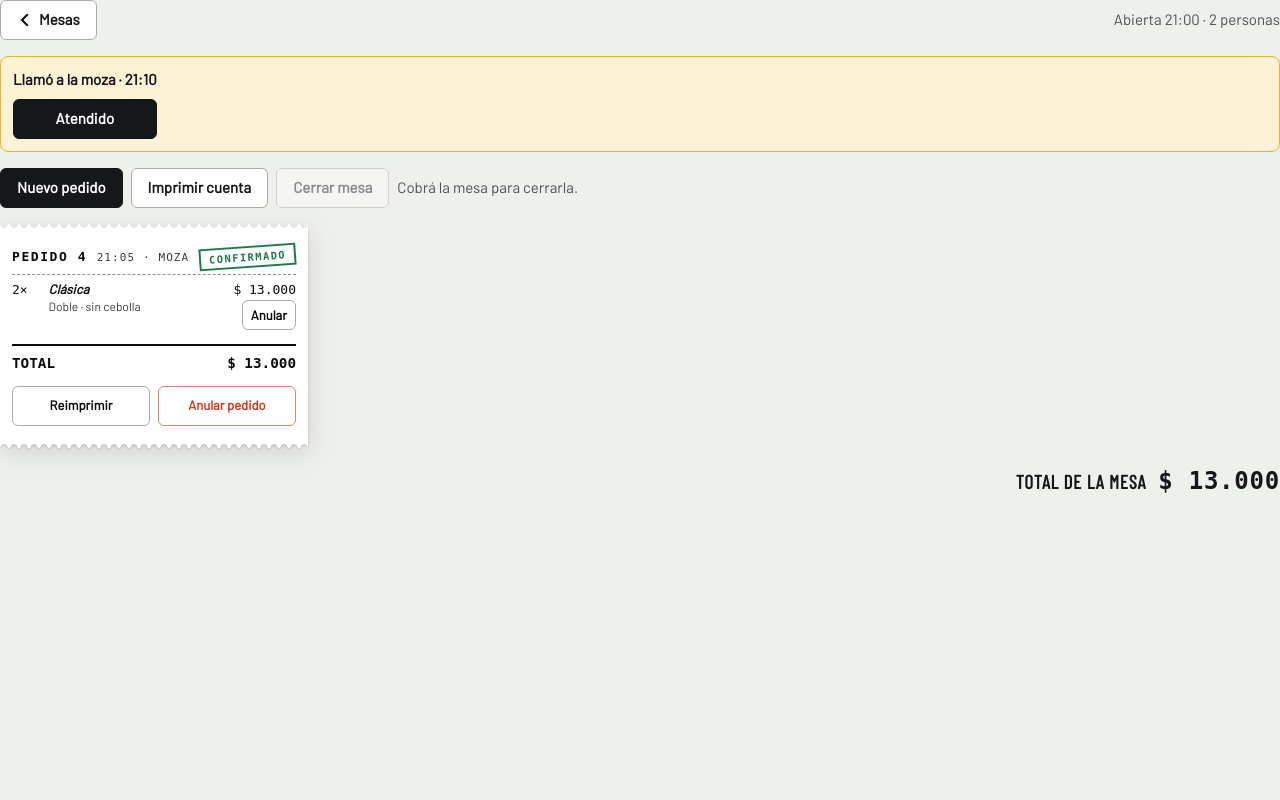
"Nuevo pedido" toma el pedido y lo crea en la mesa
The width and height of the screenshot is (1280, 800).
Click the button "Nuevo pedido": (61, 188) x1=0 y1=168 x2=123 y2=208
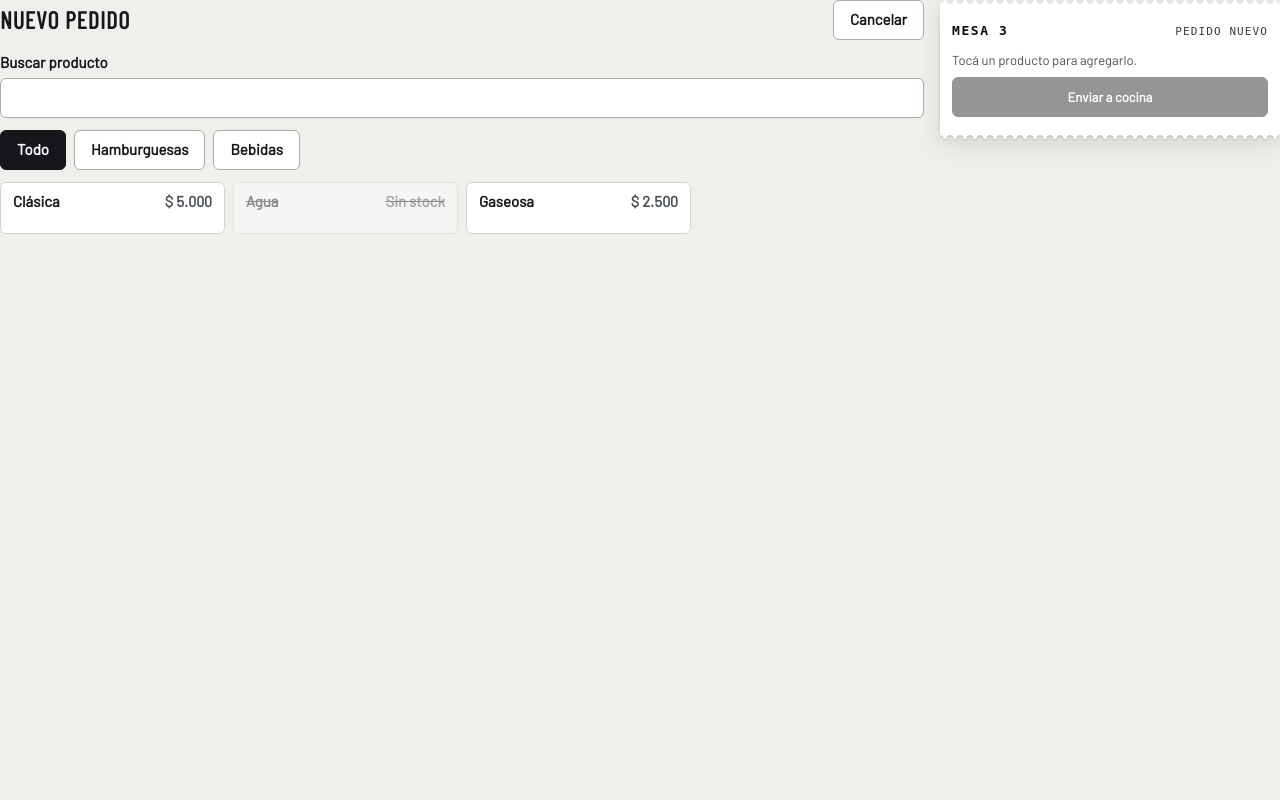
Click the button "Gaseosa $ 2.500": (578, 208) x1=466 y1=182 x2=691 y2=234
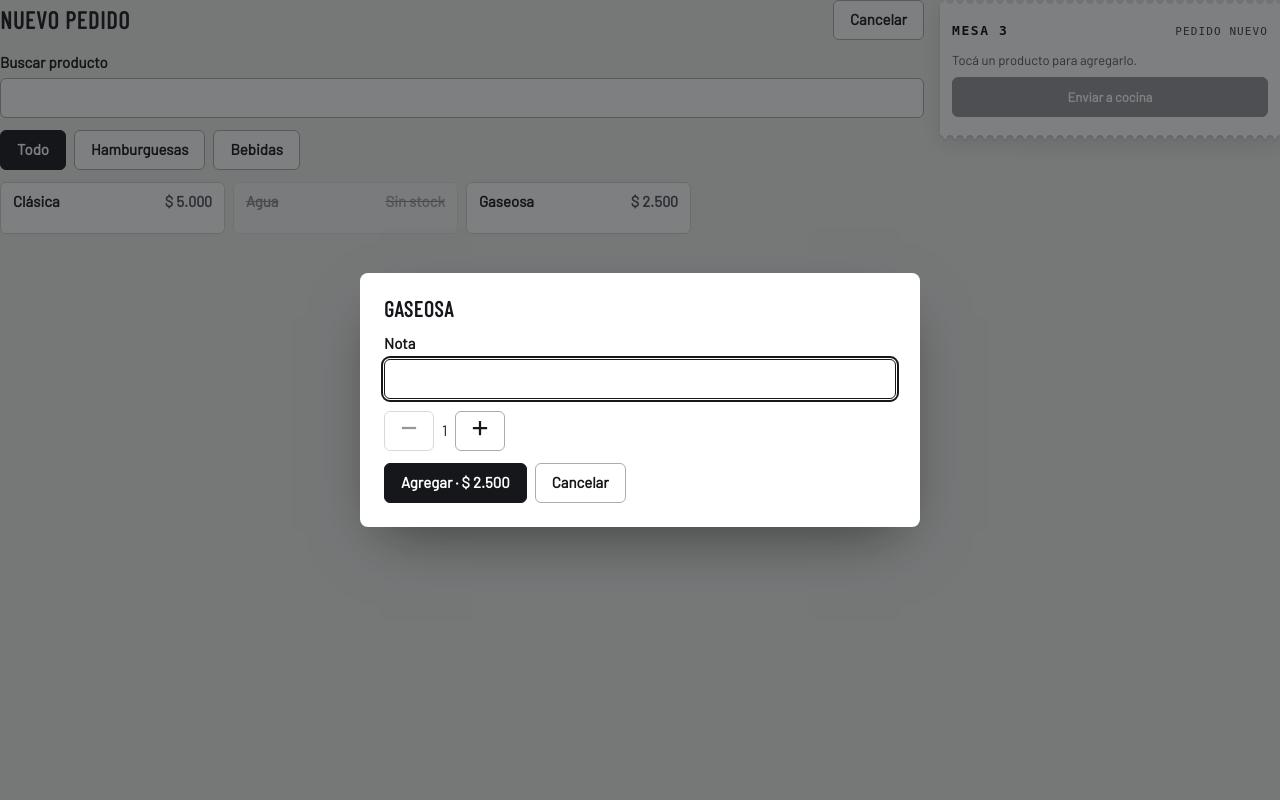
Click the button "Agregar · $ 2.500": (455, 483) x1=384 y1=463 x2=527 y2=503
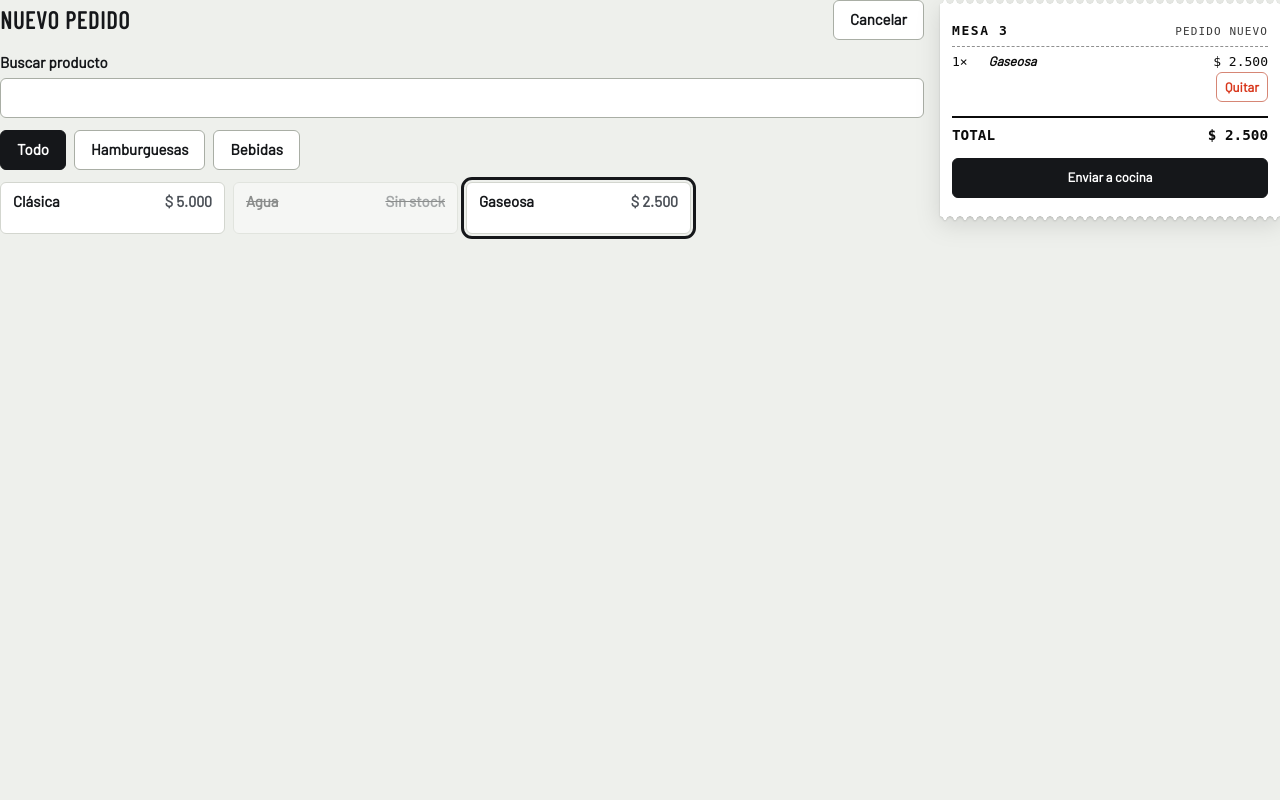
Click the button "Enviar a cocina": (1110, 178) x1=952 y1=158 x2=1268 y2=198
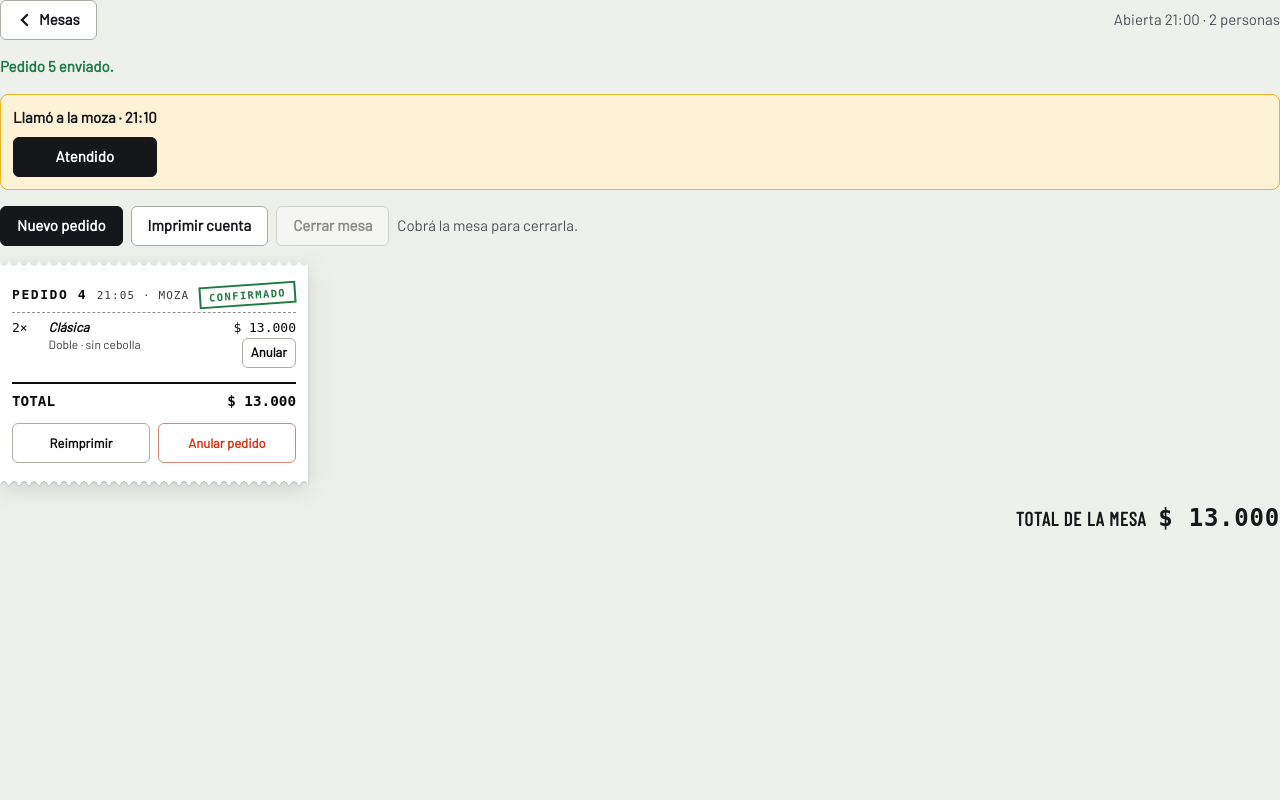
Expected: the text "Pedido 5 enviado." is shown, x1=0 y1=57 x2=114 y2=75
